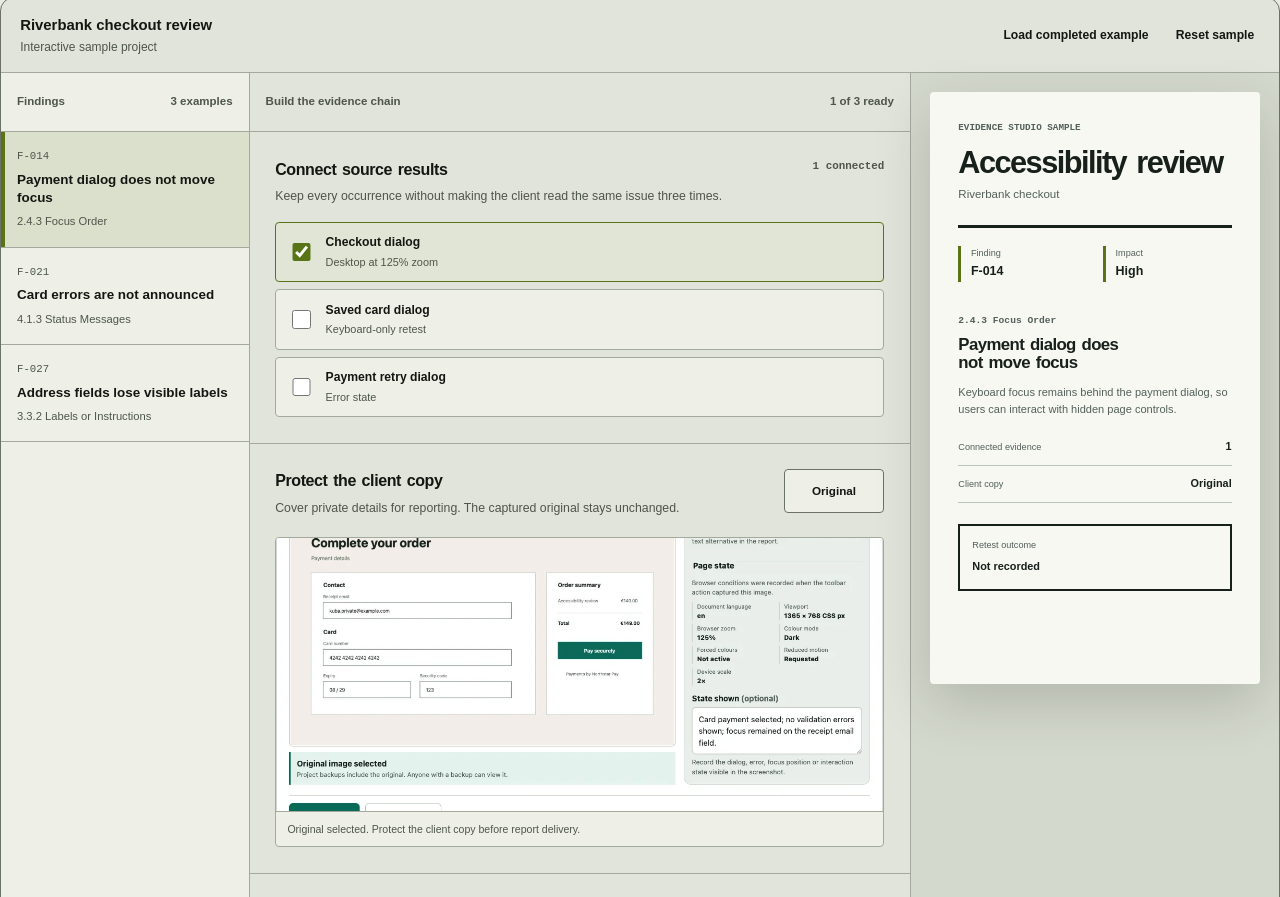
PremiumDemo › loads the completed example in one action
This screenshot has width=1280, height=897.
Click the button "Load completed example". click: coordinates (1076, 35)
box: left=998, top=13, right=1154, bottom=57
(page scrolled)
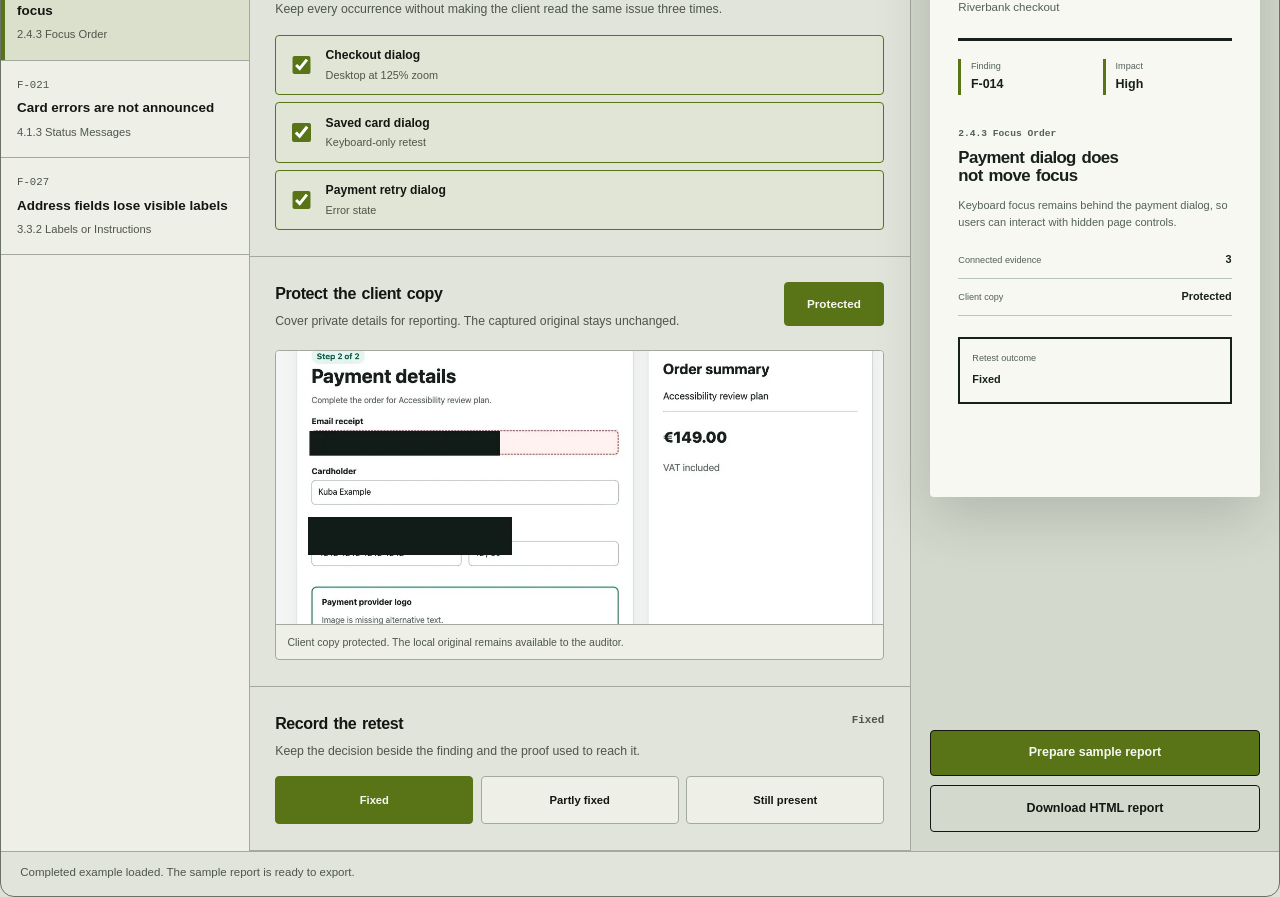
Expected: the switch named "protect the client copy" is checked, left=784, top=282, right=884, bottom=326
Expected: the radio button labelled "Fixed" is checked, left=275, top=776, right=474, bottom=824
Expected: the button "Download HTML report" is shown, left=930, top=785, right=1260, bottom=832
